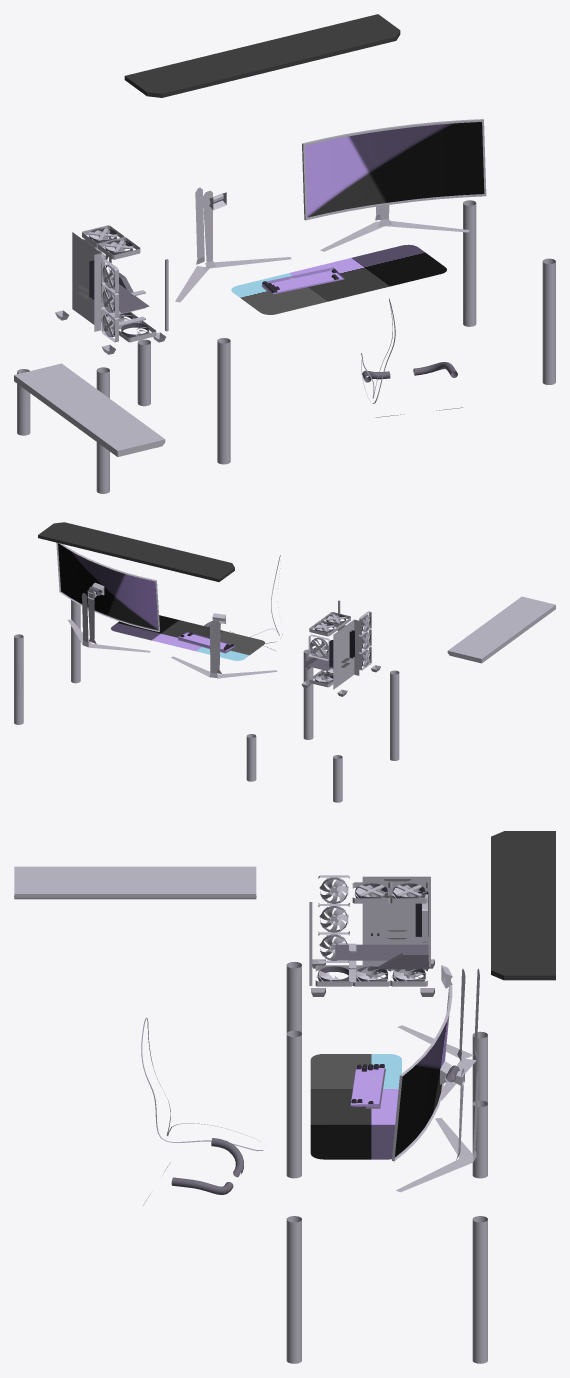
File: object_4_lev1.glb
3 views of the same model, one above another, from view 1: azimuth 30°, elevation 25°; view 2: azimuth 150°, elevation 25°; view 3: azimuth 270°, elevation 25° (orthographic). The views are drawn at different scales.
Visible parts, largest first — view 1: object_4_lev1; view 2: object_4_lev1; view 3: object_4_lev1.
Part boxes in pixels (x1=…): object_4_lev1: x1=14, y1=14, x2=555, y2=493; object_4_lev1: x1=14, y1=522, x2=555, y2=802; object_4_lev1: x1=14, y1=831, x2=555, y2=1363.
Size of the model in its own units: 23.91 by 12.33 by 17.24.
Materials: 1 (1 with a texture image).
